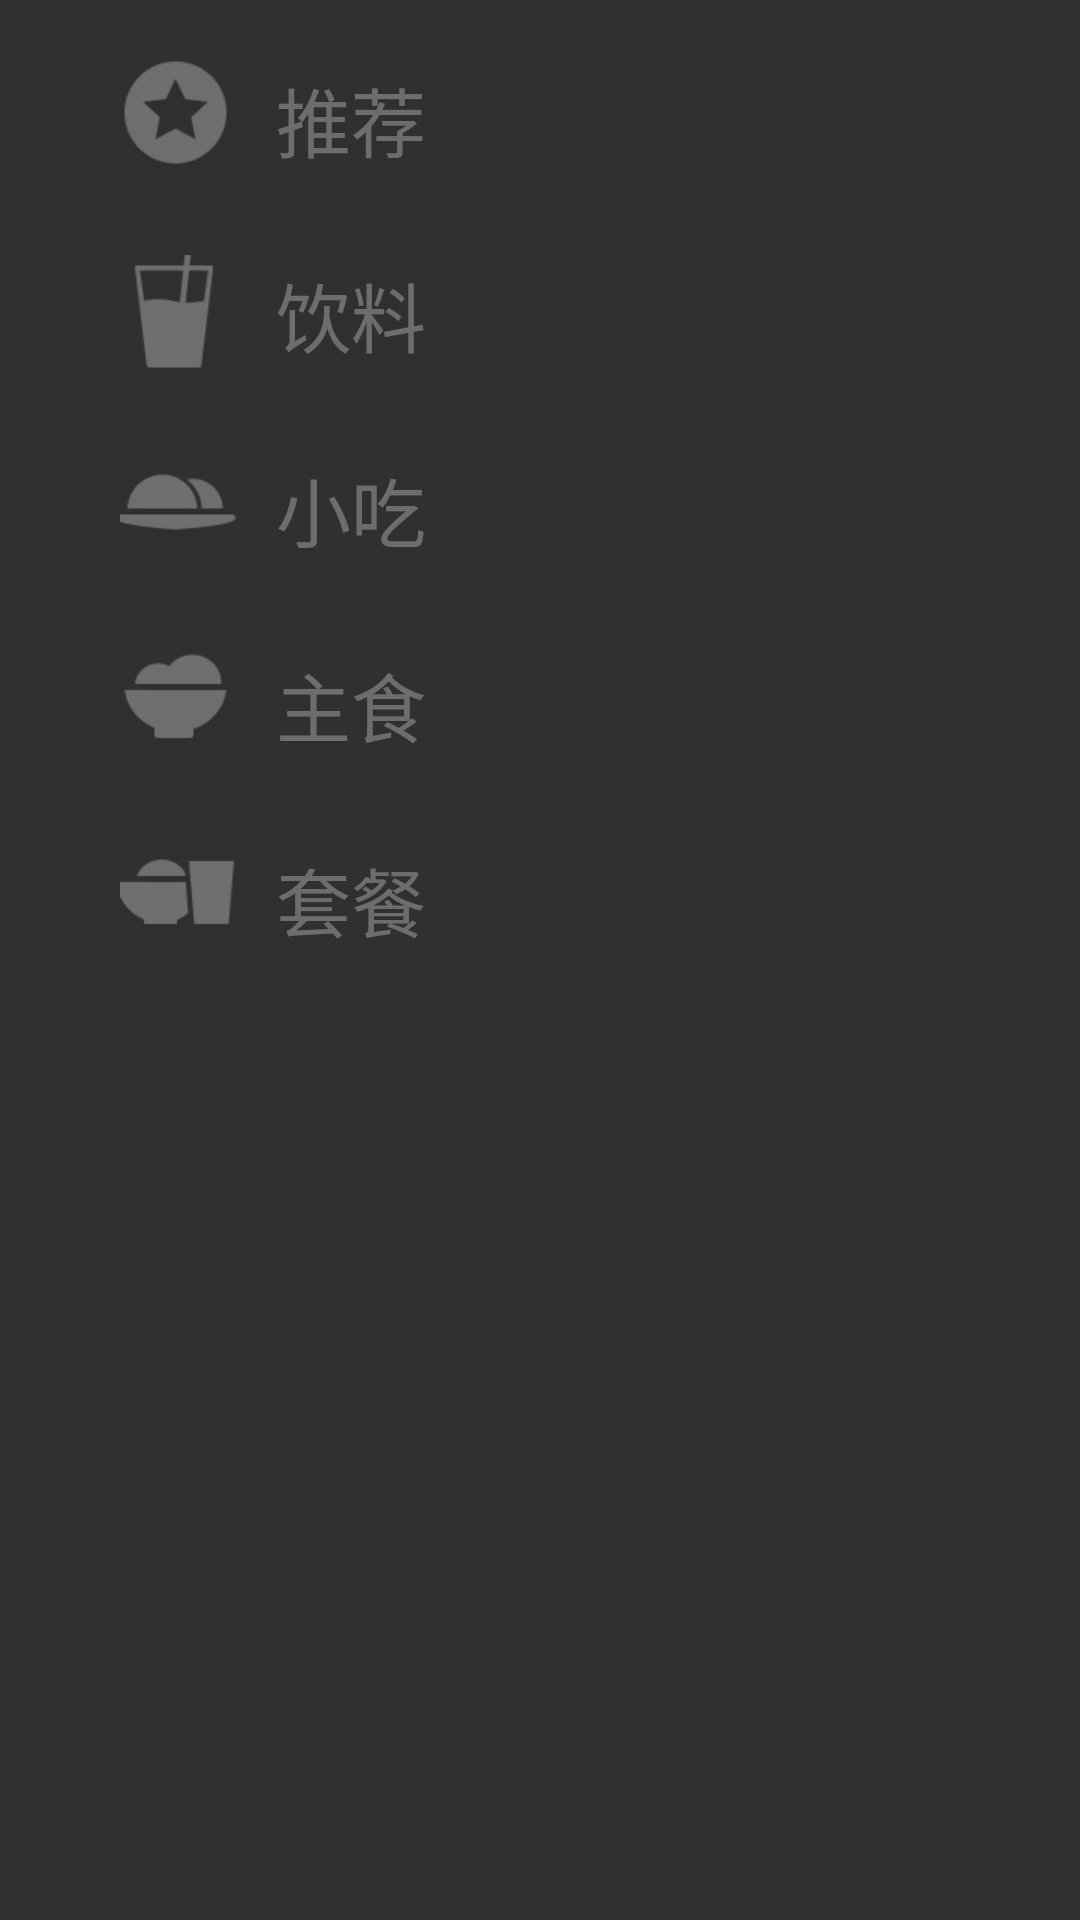

Icon click points for this 1080 x 1920 phone screenshot, format point (x, y):
drink: point (174, 311)
pri food: point (175, 696)
recommend: point (175, 112)
set meal: point (177, 891)
snack: point (178, 502)
